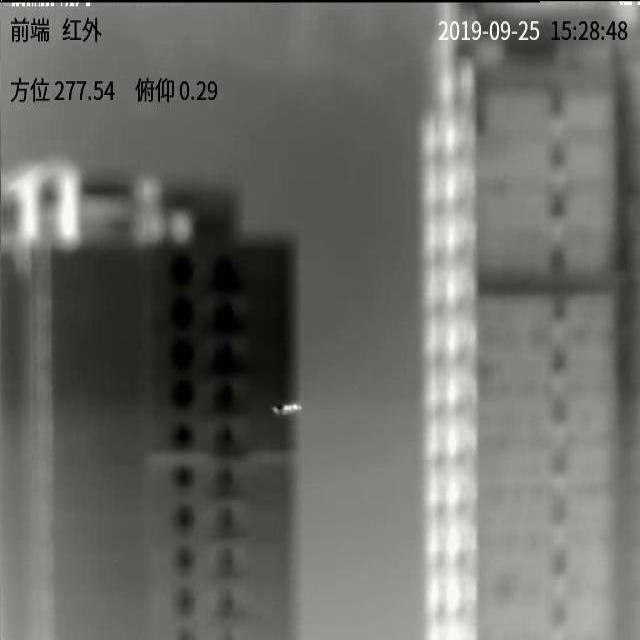drone: (271, 402, 302, 415)
